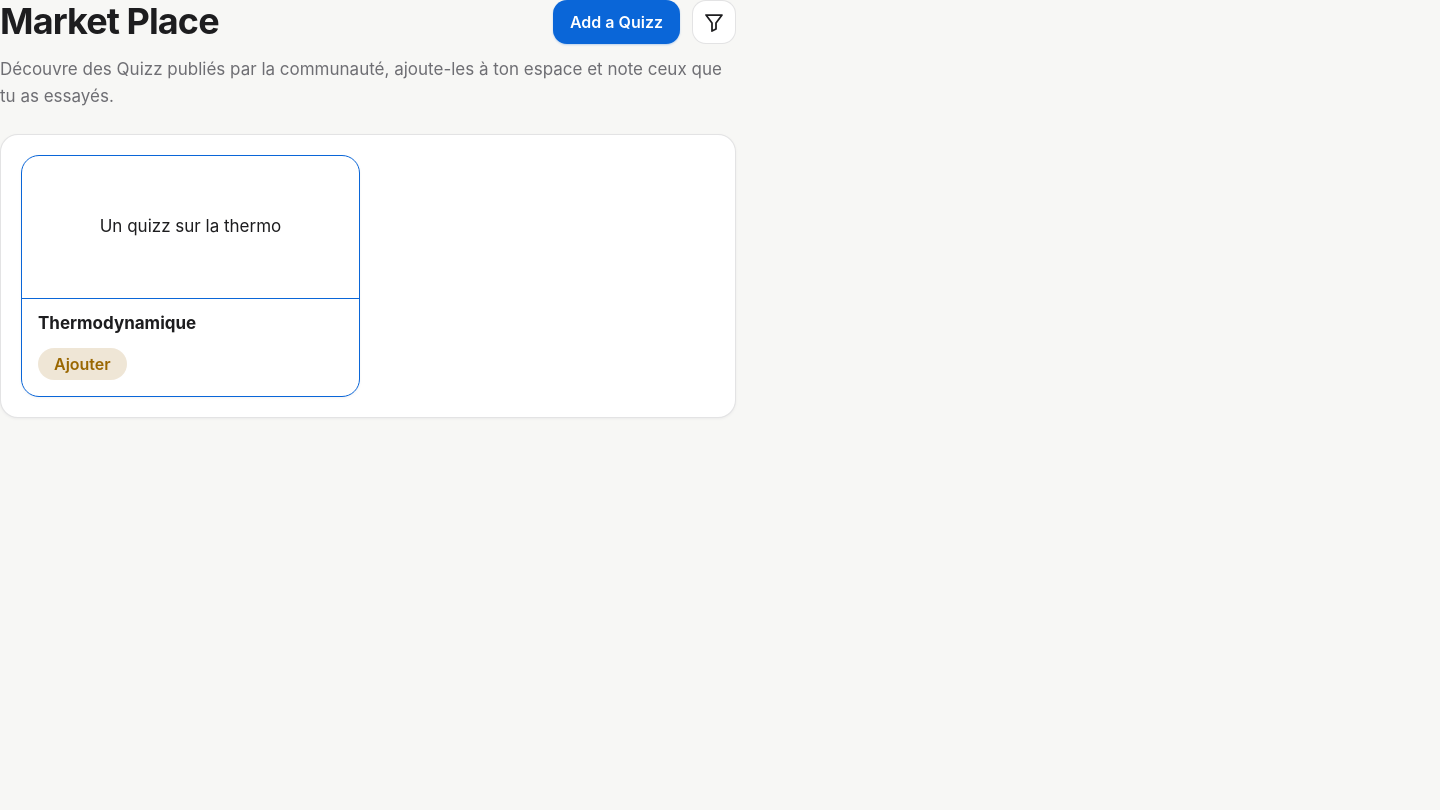
Test case: MarketplacePage › rates a listing with a comment in two steps after subscribing, and reports a submission error
This screenshot has width=1440, height=810.
Click the button "Un quizz sur la thermo Thermodynamique". click: {"x": 190, "y": 252}
box: [22, 156, 359, 348]
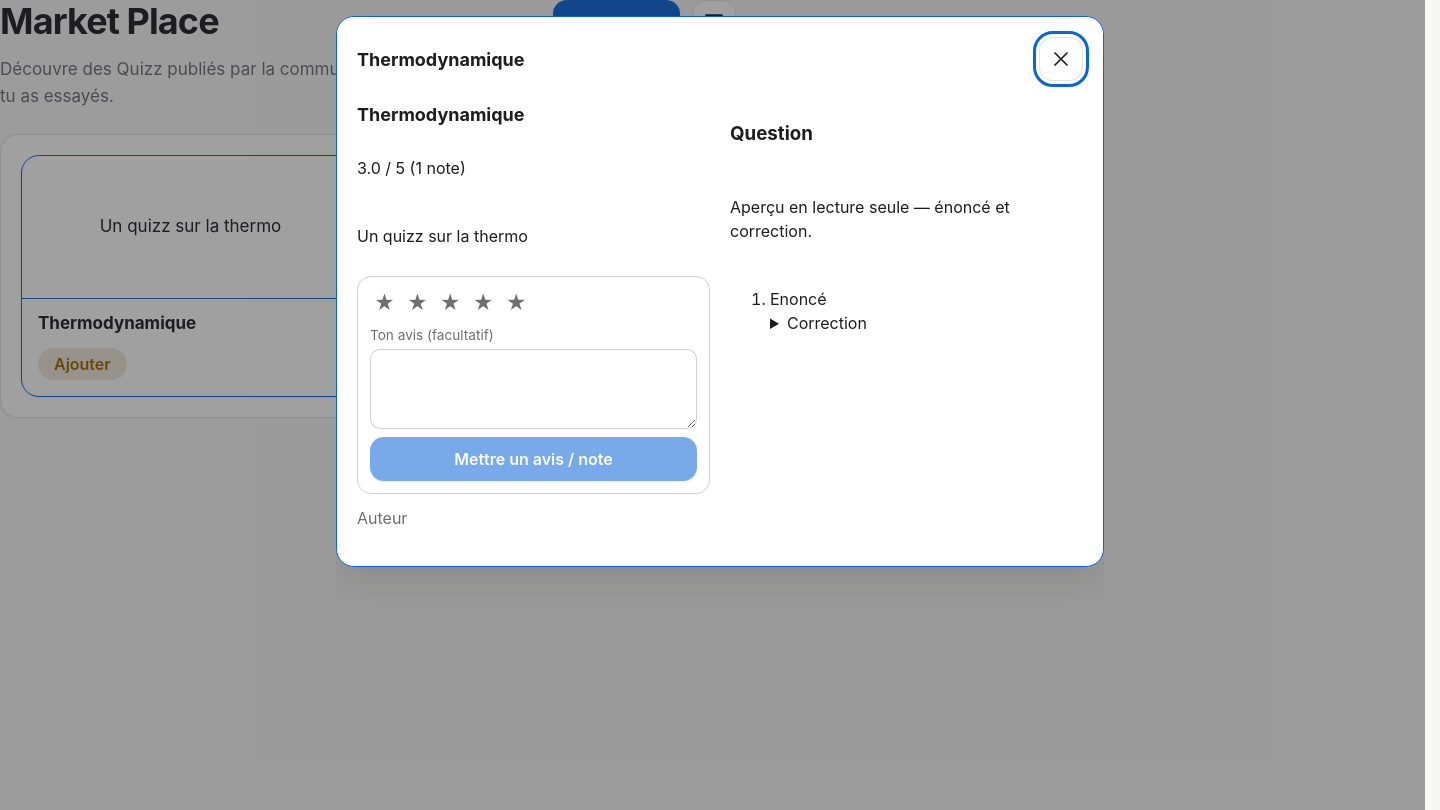
Click the radio button named "5 / 5". click: {"x": 516, "y": 303}
box: [502, 289, 530, 317]
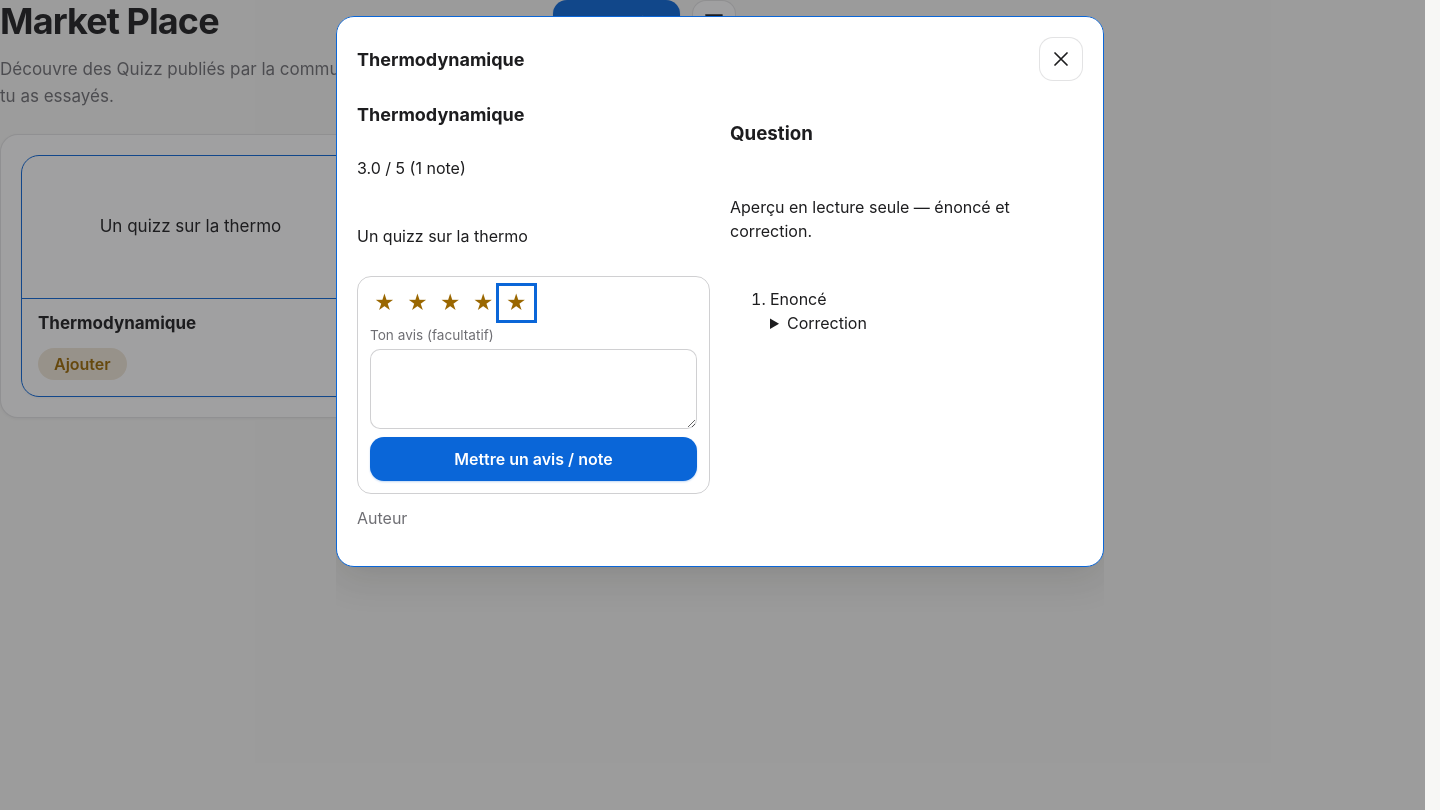
Type "Très clair, merci !" into the text box labelled "Ton avis (facultatif)". click: {"x": 534, "y": 389}
box: [370, 349, 697, 429]
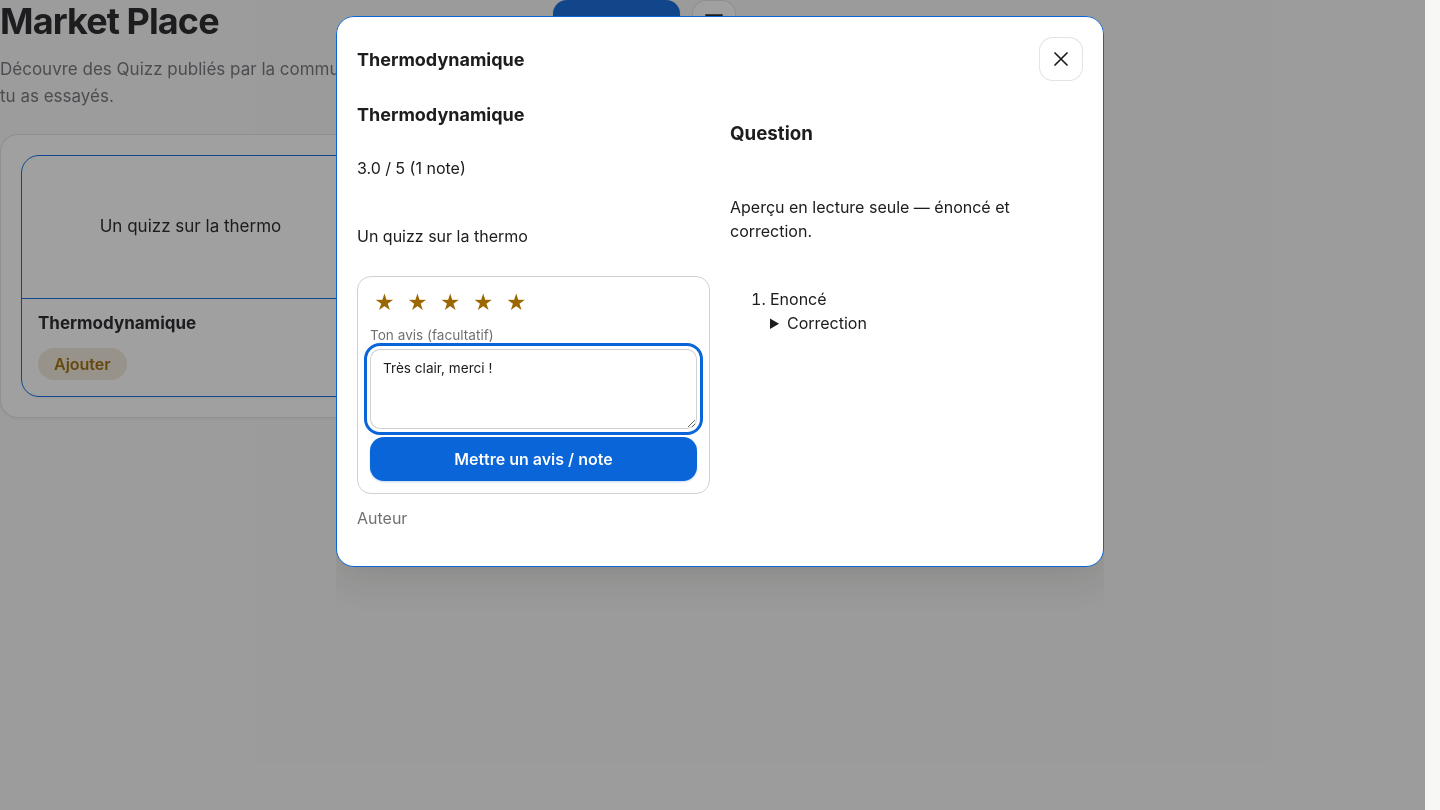
Click the button "Mettre un avis / note". click: {"x": 534, "y": 459}
box: [370, 437, 697, 481]
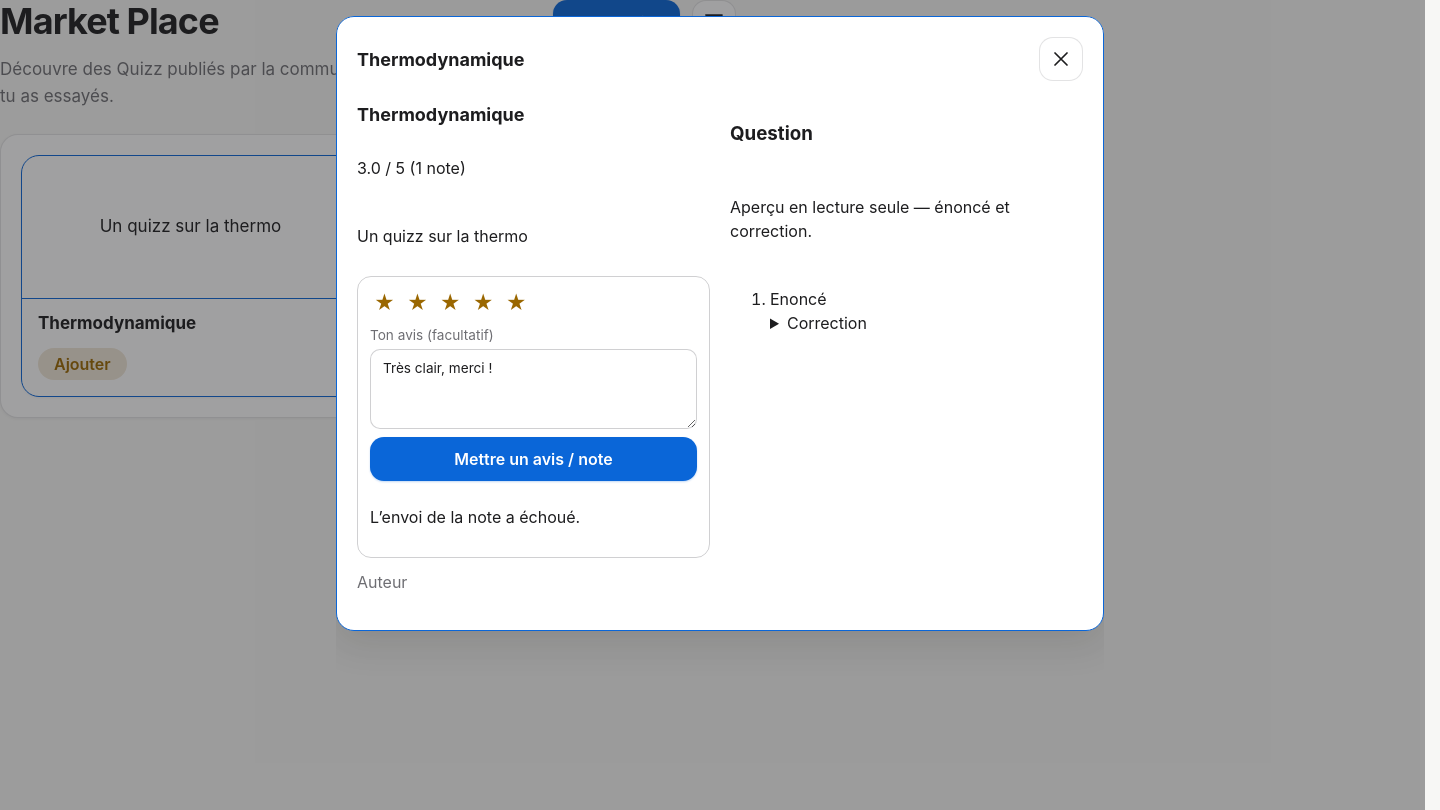
expect the text "L’envoi de la note a échoué." is shown: met, box [370, 507, 580, 527]
Click the button "Mettre un avis / note". click: {"x": 534, "y": 459}
box: [370, 437, 697, 481]
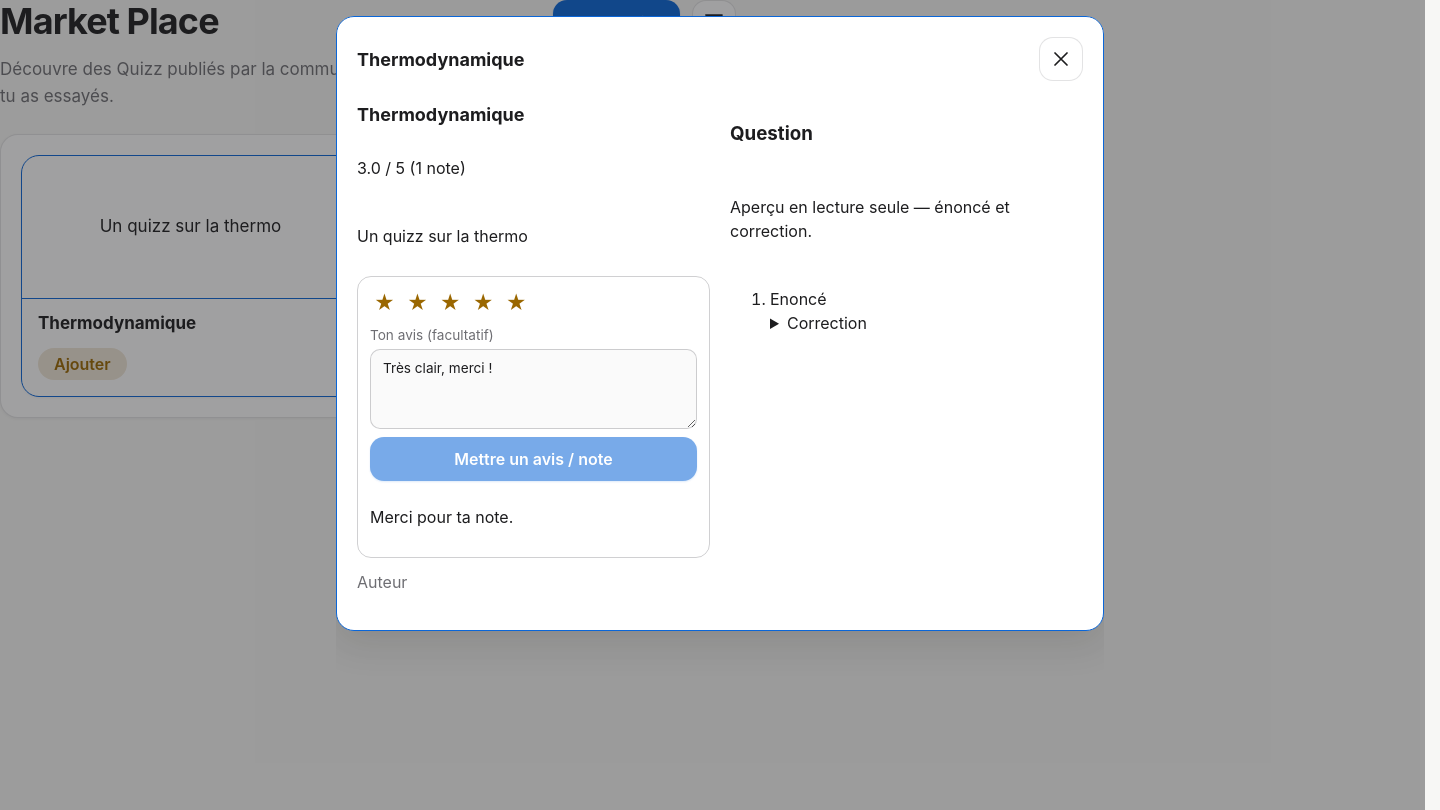
expect the text "Merci pour ta note." is shown: met, box [370, 507, 513, 527]
